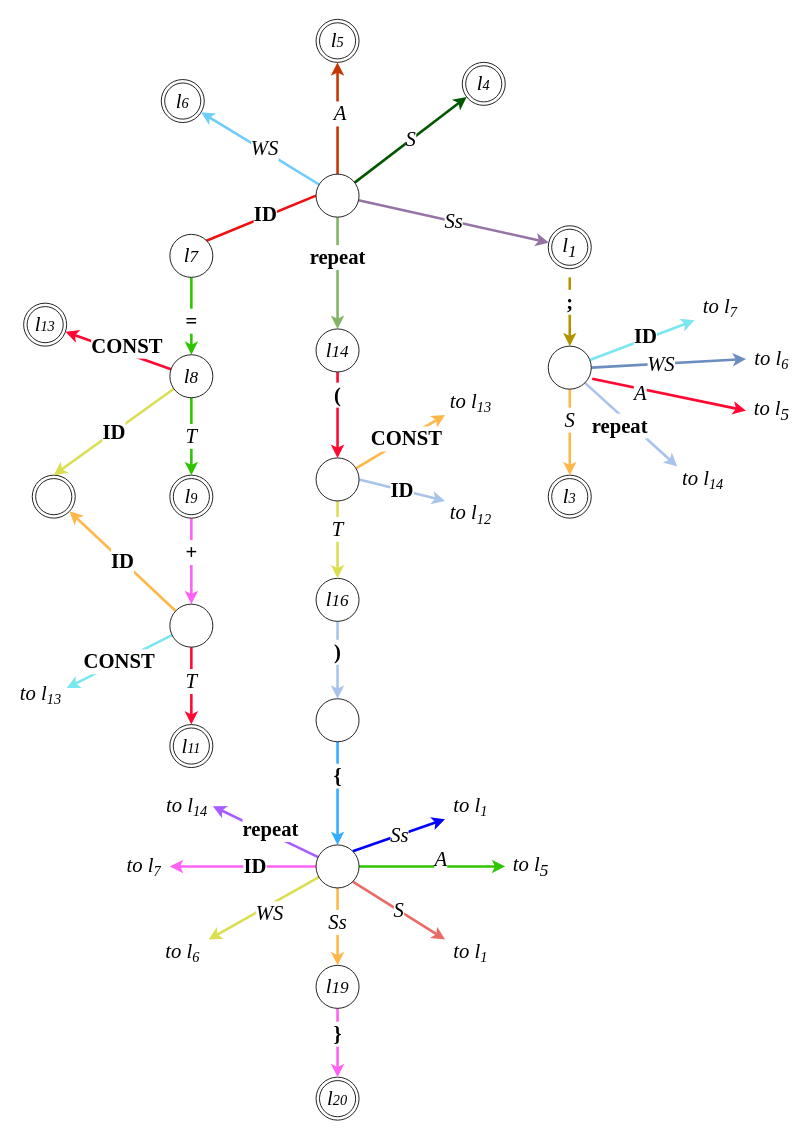
Some shapes in this 812 by 1140 pixel diagram are drawn without their labels. Here are the shapes that lost their labels. From the top down, the box of each, then its label:
(315, 173, 359, 217): l 0
(547, 345, 591, 389): l 2
(31, 474, 75, 518): l 12
(315, 457, 359, 501): l 15
(169, 603, 213, 647): l 10
(315, 698, 359, 742): l 17
(315, 844, 359, 888): l 18
